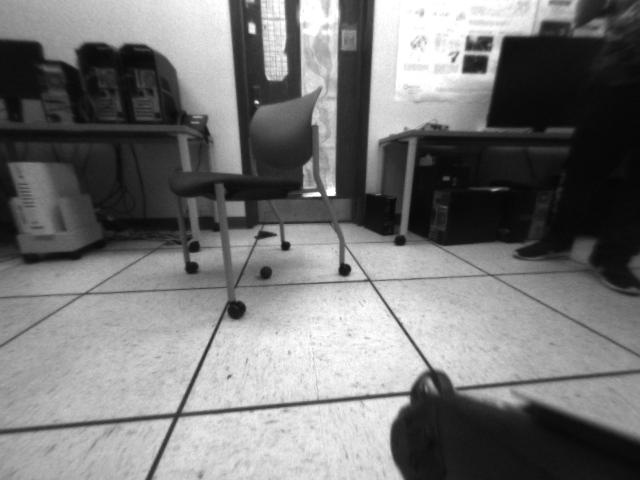dogtoy: (250, 258, 283, 285)
